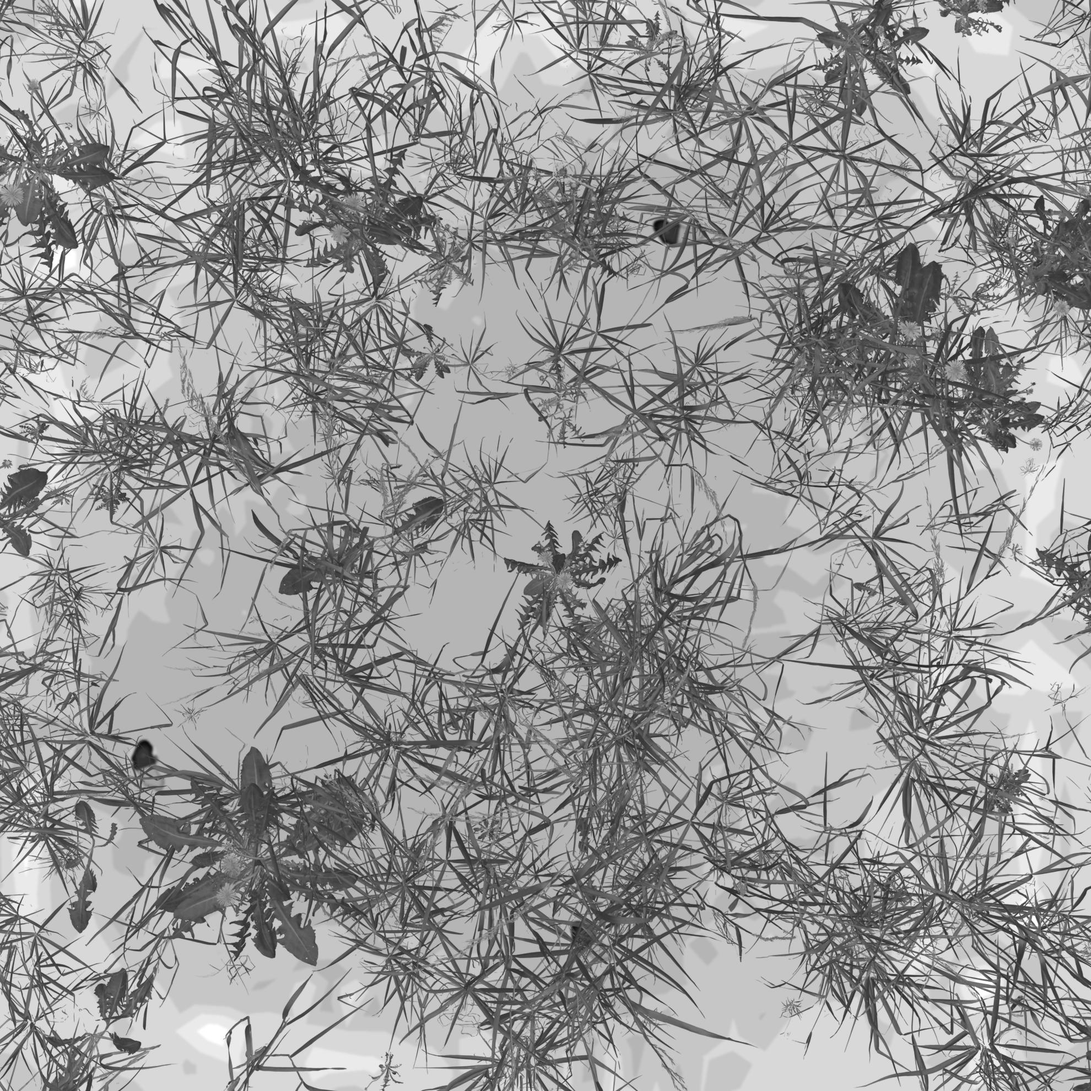landmine: (651, 214, 711, 252), (131, 736, 169, 796)
